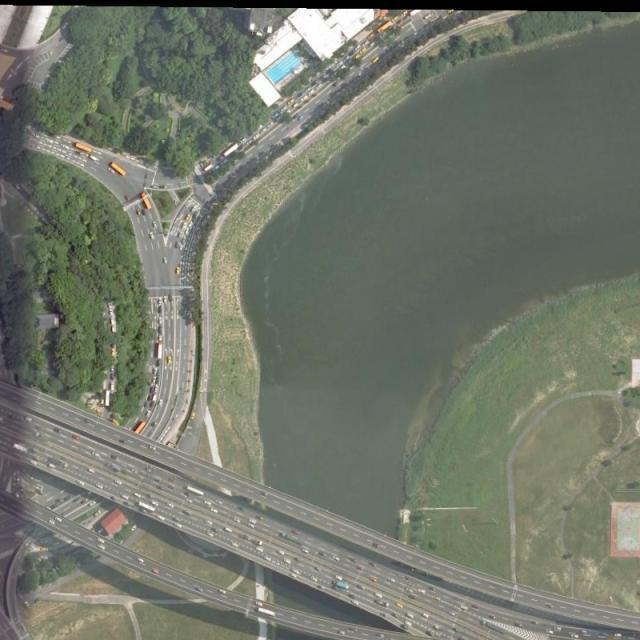vehicle: (482, 621, 506, 634), (282, 533, 306, 546), (110, 162, 126, 176), (141, 192, 152, 210), (224, 144, 238, 157), (377, 22, 391, 34), (186, 486, 204, 495), (76, 143, 92, 153), (375, 598, 391, 608), (139, 502, 154, 512), (135, 421, 146, 434), (13, 442, 27, 452), (334, 580, 348, 590), (258, 609, 275, 617), (107, 462, 122, 471), (105, 390, 110, 406), (72, 434, 81, 442), (158, 514, 166, 522), (353, 54, 361, 62), (130, 524, 138, 532), (393, 612, 402, 619), (472, 603, 481, 610), (204, 165, 213, 172), (247, 523, 256, 530), (97, 537, 106, 544), (29, 459, 38, 466), (166, 502, 175, 509), (77, 479, 86, 486), (95, 483, 104, 490), (114, 479, 123, 486), (174, 522, 183, 529), (283, 558, 292, 565), (210, 507, 219, 514), (291, 568, 299, 575), (408, 594, 416, 601), (448, 610, 456, 617), (158, 344, 162, 358), (256, 547, 264, 554), (396, 602, 404, 609), (48, 462, 56, 469), (94, 509, 102, 516), (89, 501, 97, 508), (205, 518, 213, 525), (134, 492, 142, 499), (315, 83, 323, 90), (363, 40, 370, 48), (371, 57, 379, 64), (406, 613, 415, 619), (388, 577, 397, 583), (25, 416, 34, 422), (204, 500, 213, 506), (62, 144, 71, 150), (46, 139, 55, 145), (352, 599, 359, 606), (207, 531, 214, 538), (288, 98, 295, 105), (267, 122, 274, 129), (253, 133, 260, 140), (122, 494, 129, 501), (92, 451, 99, 458), (359, 47, 366, 54), (191, 206, 198, 213), (310, 576, 318, 582), (357, 566, 365, 572), (406, 587, 414, 593), (418, 588, 426, 594), (422, 613, 430, 619), (183, 510, 191, 516), (94, 408, 102, 414), (250, 518, 258, 524), (98, 544, 106, 550), (137, 557, 145, 563), (219, 588, 227, 594), (370, 577, 378, 583), (434, 596, 442, 602), (461, 605, 469, 611), (54, 428, 62, 434), (74, 496, 82, 502), (80, 498, 88, 504), (280, 106, 288, 112), (336, 61, 344, 67), (338, 65, 346, 71), (174, 241, 180, 249), (515, 623, 524, 628), (332, 556, 339, 562), (212, 527, 219, 533), (231, 542, 238, 548), (454, 628, 461, 634), (427, 630, 434, 636), (429, 586, 436, 592), (90, 155, 97, 161), (108, 168, 115, 174), (155, 478, 162, 484), (302, 96, 309, 102), (298, 115, 305, 121), (343, 56, 350, 62), (355, 45, 362, 51), (349, 50, 356, 56), (392, 16, 399, 22), (397, 19, 403, 26), (425, 14, 432, 20), (312, 80, 319, 86), (35, 598, 42, 604), (22, 625, 28, 632), (315, 566, 322, 572), (357, 585, 365, 590), (302, 549, 310, 554), (234, 518, 242, 523), (277, 550, 285, 555), (290, 573, 298, 578), (434, 626, 442, 631), (146, 410, 151, 418), (125, 194, 130, 202), (186, 498, 194, 503), (151, 501, 159, 506), (333, 586, 341, 591), (349, 594, 357, 599), (54, 517, 62, 522), (191, 412, 196, 420), (225, 527, 233, 532), (185, 214, 190, 222), (320, 551, 326, 557), (402, 624, 408, 630), (381, 612, 387, 618), (532, 620, 538, 626), (489, 614, 495, 620), (49, 520, 55, 526), (255, 602, 264, 606), (309, 90, 315, 96), (260, 128, 266, 134), (369, 34, 375, 40), (240, 138, 246, 144), (246, 140, 252, 146), (24, 600, 30, 606), (257, 515, 264, 520), (350, 558, 357, 563), (369, 561, 376, 566), (376, 593, 383, 598), (151, 569, 158, 574), (195, 587, 202, 592), (405, 621, 412, 626), (318, 585, 325, 590), (163, 257, 168, 264), (137, 210, 142, 217), (153, 221, 158, 228), (168, 485, 175, 490), (169, 479, 176, 484), (335, 576, 342, 581), (150, 232, 155, 239), (306, 86, 311, 93), (168, 294, 173, 301), (350, 627, 358, 631), (614, 634, 622, 638), (546, 630, 554, 634), (182, 222, 186, 230), (158, 297, 162, 305), (264, 556, 270, 561), (374, 543, 380, 548), (88, 468, 94, 473), (298, 93, 304, 98), (293, 530, 300, 534), (338, 630, 345, 634), (571, 634, 578, 638), (554, 626, 561, 630), (154, 368, 158, 375), (142, 210, 146, 217), (41, 547, 48, 551), (177, 267, 181, 274), (294, 558, 301, 562), (262, 492, 267, 497), (112, 349, 115, 357), (110, 318, 114, 324), (159, 400, 163, 406), (146, 494, 152, 498), (150, 446, 156, 450), (378, 634, 384, 638), (178, 232, 182, 238), (145, 402, 149, 408), (111, 383, 114, 390), (158, 359, 161, 366), (159, 318, 162, 325), (159, 307, 162, 314), (164, 296, 167, 303), (153, 378, 157, 383), (158, 486, 163, 490), (155, 387, 158, 393), (111, 374, 114, 380), (110, 310, 113, 316), (159, 336, 162, 342), (180, 245, 183, 251), (168, 358, 171, 363), (112, 326, 114, 333)
